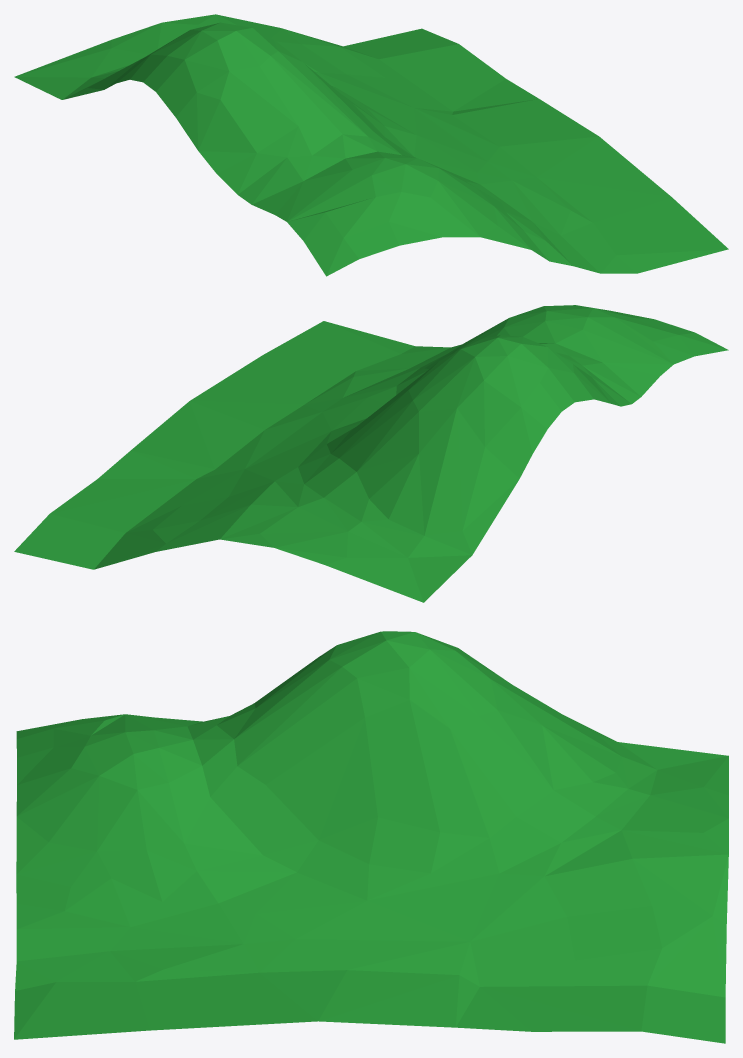
Rendered from Field_R3.fbx.
3 views of the same model, one above another, from view 1: azimuth 30°, elevation 25°; view 2: azimuth 150°, elevation 25°; view 3: azimuth 270°, elevation 25° (orthographic). The views are drawn at different scales.
Visible parts, largest first — view 1: R3; view 2: R3; view 3: R3.
Boxes of the visible parts, x1=… form: R3: x1=14, y1=14, x2=728, y2=276; R3: x1=14, y1=305, x2=728, y2=602; R3: x1=14, y1=631, x2=728, y2=1043.
Size of the model in its own units: 2446 by 1052 by 3165.
